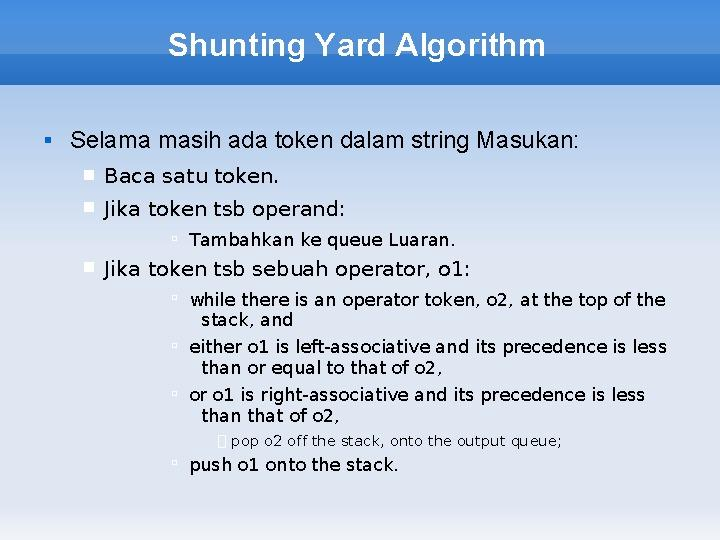paragraph: (30, 106, 700, 495)
title: (155, 22, 559, 80)
